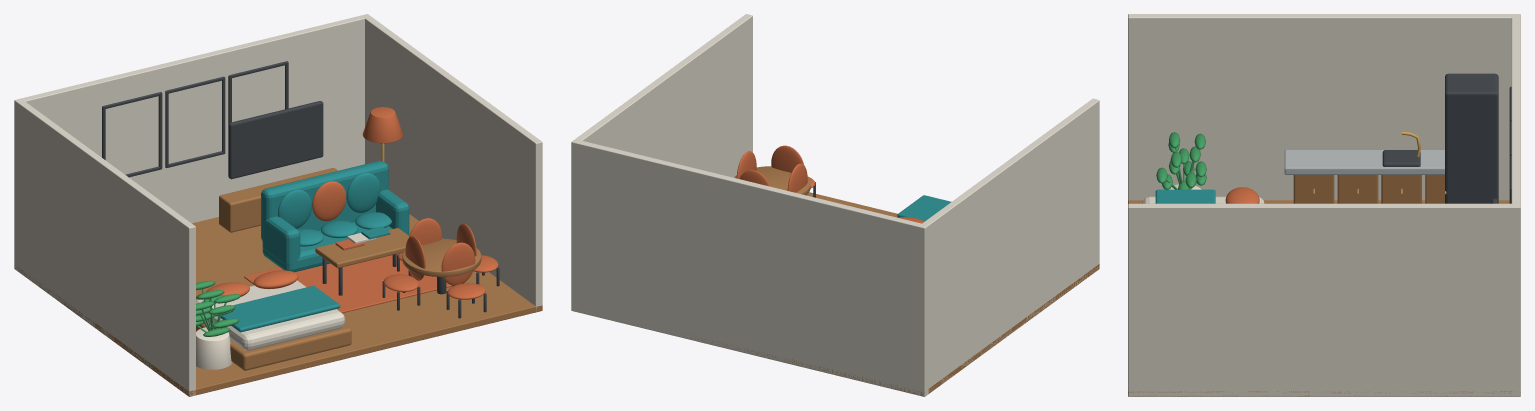
The model's file is compact_apartment_interior.glb.
The picture shows the model from 3 angles, left to right: view 1: azimuth 30°, elevation 25°; view 2: azimuth 150°, elevation 25°; view 3: azimuth 270°, elevation 25°; orthographic projection. The views are drawn at different scales.
Visible parts, largest first — view 1: Apartment_BackWall, Apartment_LeftWall, Apartment_RightWall, Apartment_Floor, Media_Display, Apartment_Rug, Bed_Mattress, Bed_Throw, Sofa_Back, Bed_Platform, Media_Console, CoffeeTable_Top (+17 smaller); view 2: Apartment_BackWall, Apartment_LeftWall, Apartment_RightWall, Apartment_Floor, Bed_Throw, DiningTable_Top, DiningChair_3_BackCushion; view 3: Apartment_RightWall, Apartment_LeftWall, Kitchen_TallFridge, Kitchen_StoneCounter, Apartment_BackWall, Kitchen_BaseCabinet_4, Kitchen_BaseCabinet_3, Kitchen_BaseCabinet_2, Bed_Throw, Kitchen_SinkBasin, Kitchen_BaseCabinet_1, Bed_Pillow_1 (+1 smaller).
Part boxes in pixels (<box>): Apartment_BackWall: <box>14,14,370,271</box>; Apartment_LeftWall: <box>14,100,195,396</box>; Apartment_RightWall: <box>363,14,542,309</box>; Apartment_Floor: <box>14,214,542,396</box>; Media_Display: <box>228,101,323,179</box>; Apartment_Rug: <box>244,253,452,313</box>; Bed_Mattress: <box>196,280,345,350</box>; Bed_Throw: <box>218,285,340,332</box>; Sofa_Back: <box>261,161,388,240</box>; Bed_Platform: <box>196,322,351,370</box>; Media_Console: <box>219,168,337,232</box>; CoffeeTable_Top: <box>315,228,409,268</box>; Apartment_BackWall: <box>571,139,928,396</box>; Apartment_LeftWall: <box>918,98,1099,396</box>; Apartment_RightWall: <box>571,14,752,206</box>; Apartment_Floor: <box>691,192,1099,396</box>; Bed_Throw: <box>897,195,951,220</box>; DiningTable_Top: <box>734,166,810,195</box>; DiningChair_3_BackCushion: <box>771,145,803,172</box>; Apartment_RightWall: <box>1128,203,1520,396</box>; Apartment_LeftWall: <box>1128,14,1520,200</box>; Kitchen_TallFridge: <box>1445,73,1498,203</box>; Kitchen_StoneCounter: <box>1284,150,1444,174</box>; Apartment_BackWall: <box>1511,14,1520,396</box>; Kitchen_BaseCabinet_4: <box>1293,175,1334,203</box>; Kitchen_BaseCabinet_3: <box>1337,175,1378,203</box>; Kitchen_BaseCabinet_2: <box>1381,175,1421,203</box>; Bed_Throw: <box>1155,189,1215,203</box>; Kitchen_SinkBasin: <box>1382,150,1420,166</box>; Kitchen_BaseCabinet_1: <box>1425,175,1444,203</box>; Bed_Pillow_1: <box>1225,187,1259,203</box>.
Bounding box in the file's own units: 7 × 3.2 × 6.
